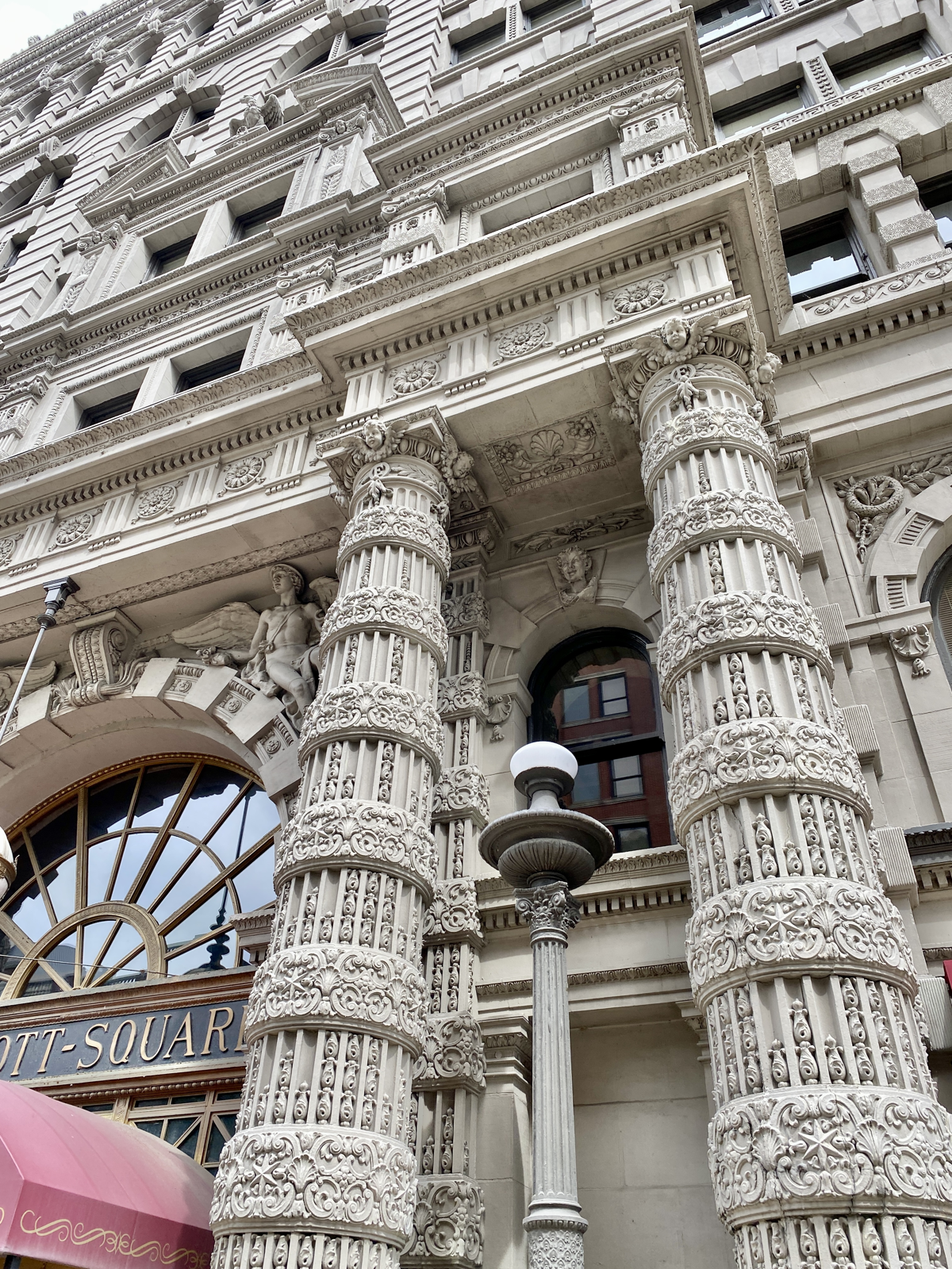fachada: (4, 0, 948, 1265)
poste: (484, 718, 643, 1265)
